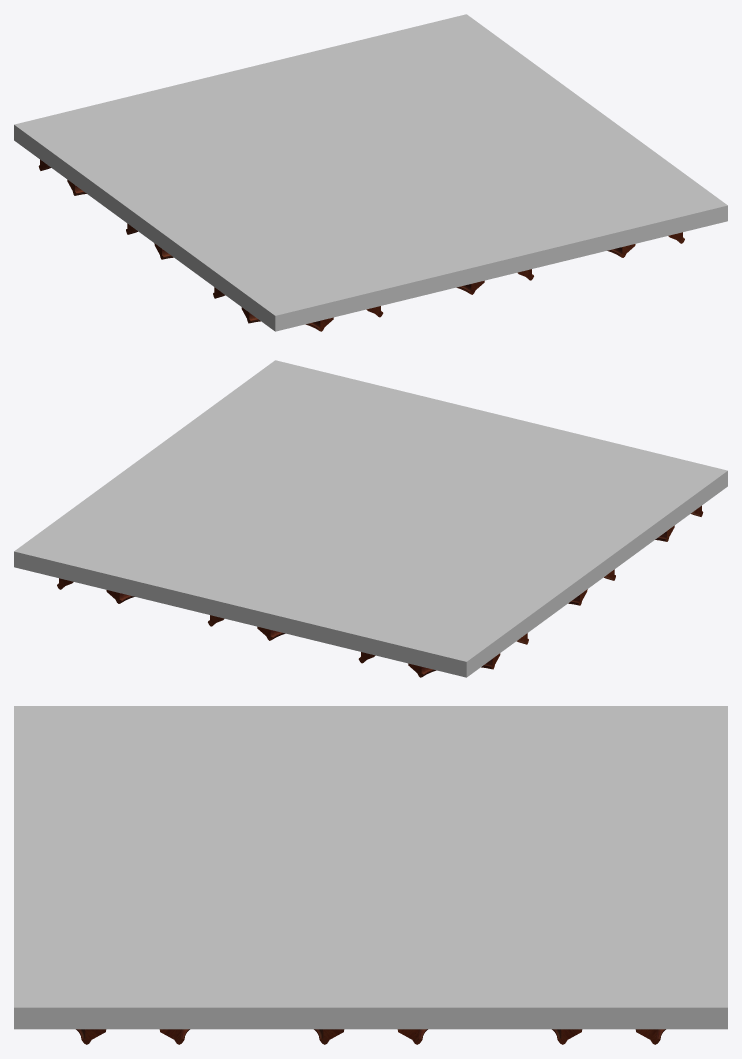
Rendered from SM_SteamPunk_Ceiling.fbx.
3 renders of one model, top to bottom at view 1: azimuth 30°, elevation 25°; view 2: azimuth 150°, elevation 25°; view 3: azimuth 270°, elevation 25°, orthographic. The views are drawn at different scales.
Parts seen in each view (by area): view 1: SM_SteamPunk_Ceiling_LOD0; view 2: SM_SteamPunk_Ceiling_LOD0; view 3: SM_SteamPunk_Ceiling_LOD0.
Part boxes in pixels (box(x1,y1,x2,y2)): SM_SteamPunk_Ceiling_LOD0: box(14, 14, 727, 331); SM_SteamPunk_Ceiling_LOD0: box(14, 360, 727, 677); SM_SteamPunk_Ceiling_LOD0: box(14, 706, 727, 1044).
Size of the model in its own units: 300 by 300 by 17.19.
